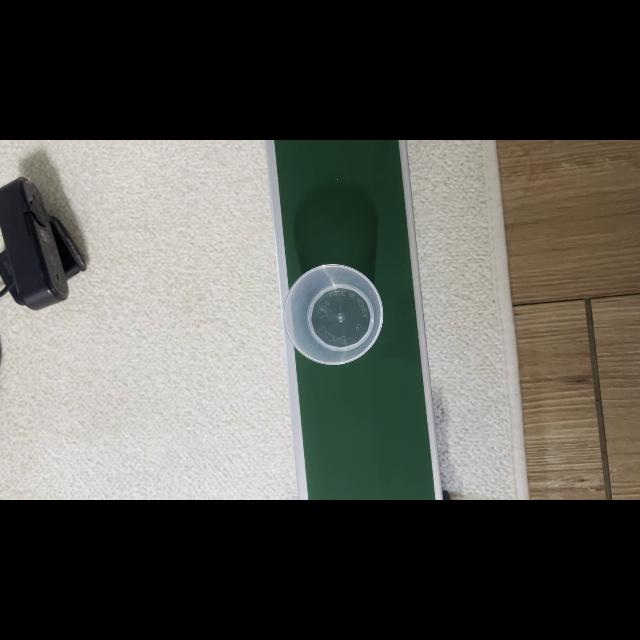clean: (284, 264, 384, 366)
